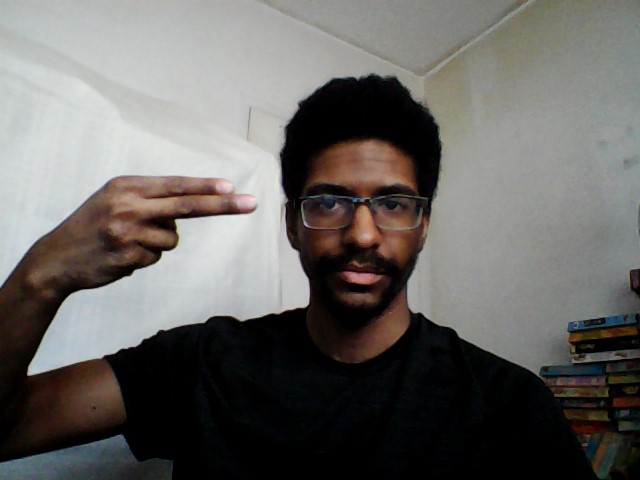h: (36, 171, 262, 294)
